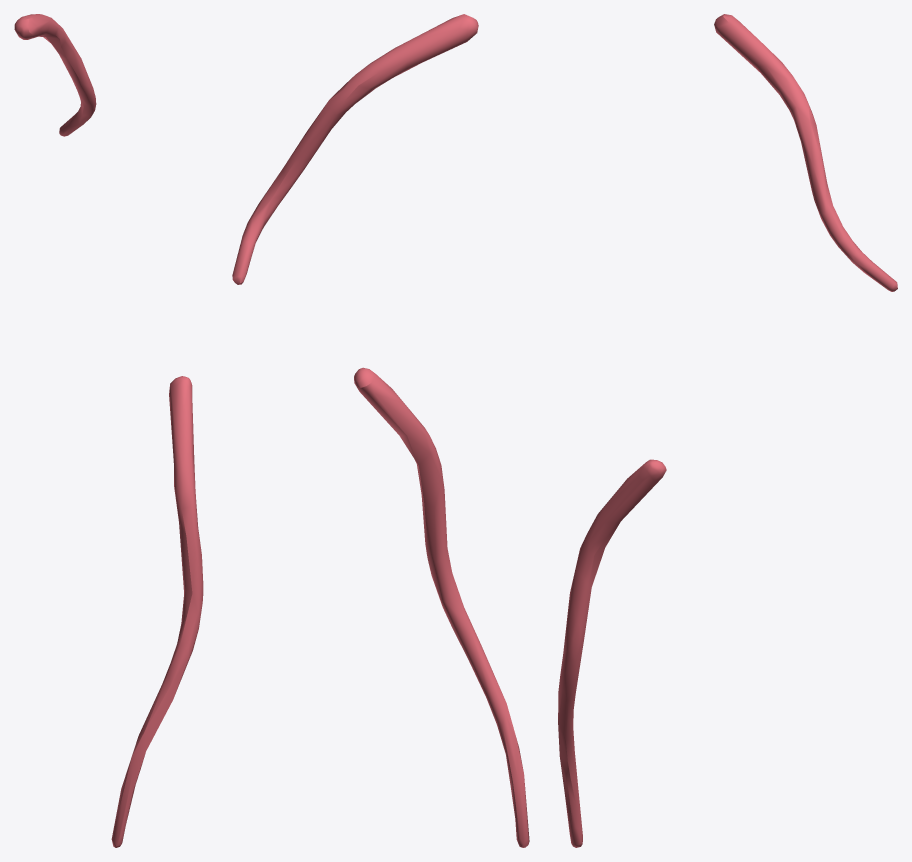
Rendered from fma70492_fj3582.glb.
3 renders of one model, left to right at view 1: azimuth 30°, elevation 25°; view 2: azimuth 150°, elevation 25°; view 3: azimuth 270°, elevation 25°, orthographic. The views are drawn at different scales.
Visible parts, largest first — view 1: FMA70492_FJ3582; view 2: FMA70492_FJ3582; view 3: FMA70492_FJ3582.
Boxes of the visible parts, x1,y1,x2,y2 form: FMA70492_FJ3582: (14,14,203,847); FMA70492_FJ3582: (232,14,529,847); FMA70492_FJ3582: (558,14,897,847).
Size of the model in its own units: 0.00645 by 0.0345 by 0.0129.
